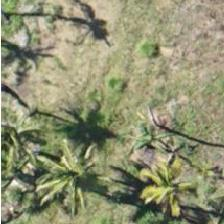coconut_tree: (32, 131, 122, 221), (120, 145, 210, 223), (0, 96, 52, 186)
